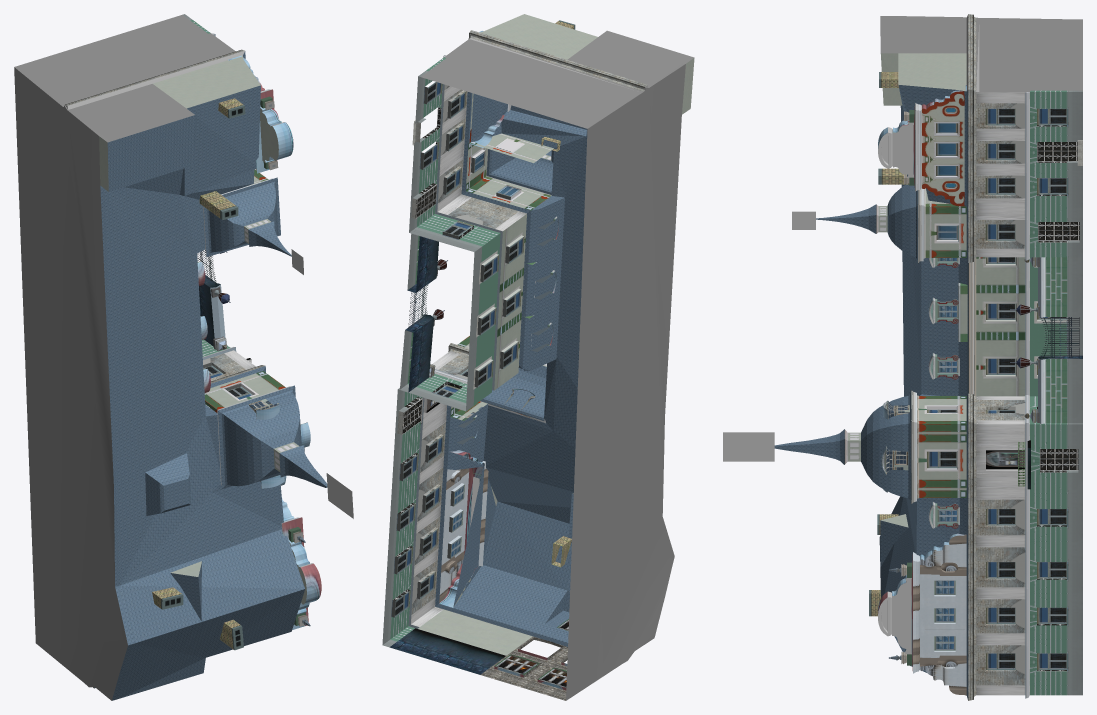
Rendered from Uus_3.obj.
3 renders of one model, left to right at view 1: azimuth 30°, elevation 25°; view 2: azimuth 150°, elevation 25°; view 3: azimuth 270°, elevation 25°, orthographic.
Visible parts, largest first — view 1: uus3, xxx; view 2: uus3, xxx; view 3: uus3, xxx.
Part boxes in pixels (<box>): uus3: <box>65,14,353,700</box>; xxx: <box>14,15,235,700</box>; uus3: <box>382,14,694,700</box>; xxx: <box>421,30,694,700</box>; uus3: <box>723,14,1082,700</box>; xxx: <box>880,16,1082,91</box>.
Size of the model in its own units: 15.75 by 41.24 by 22.23.
